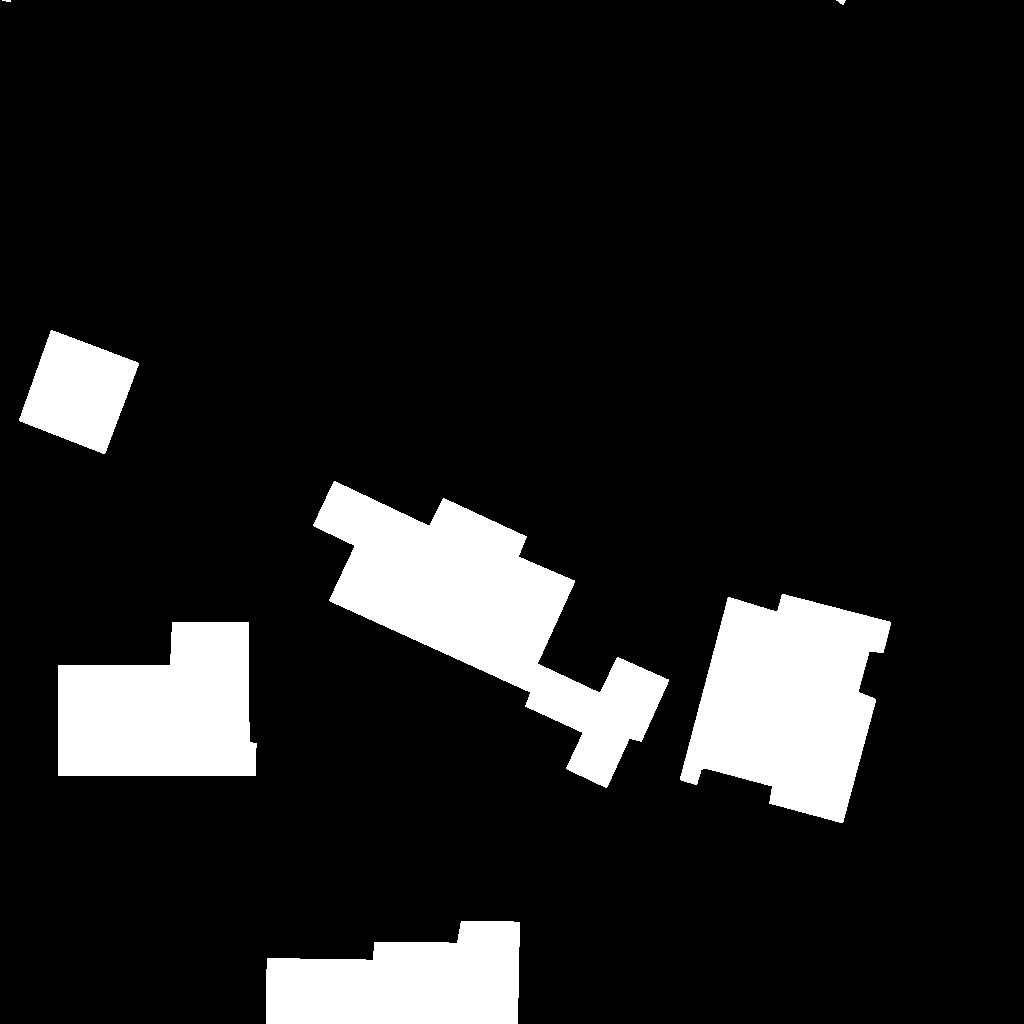building: (313, 481, 670, 789), (680, 594, 892, 824), (58, 622, 257, 776), (266, 921, 521, 1024), (19, 330, 140, 455), (836, 0, 847, 6), (0, 0, 12, 3)
